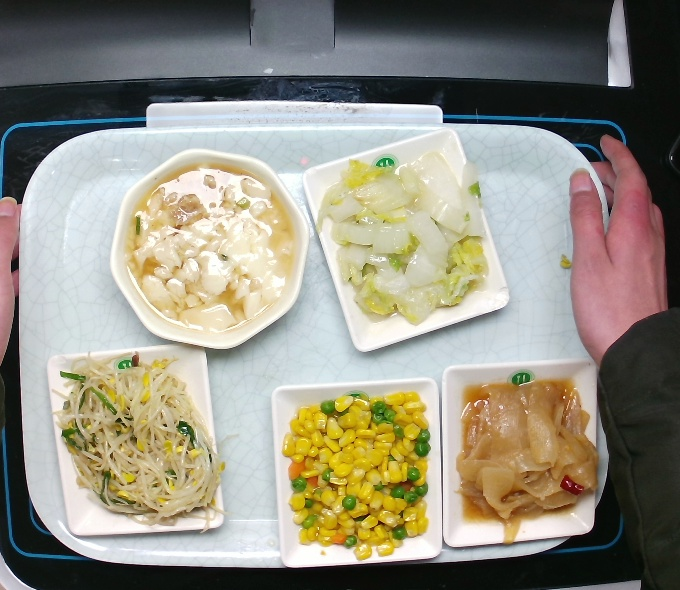wcq-DaBaiCai: (312, 146, 496, 329)
wcq-DongGua: (448, 371, 604, 551)
wcq-DouYa: (47, 344, 233, 538)
wcq-ShuiZhengDan: (119, 156, 301, 338)
wcq-TianMiTianDou: (278, 387, 436, 564)
